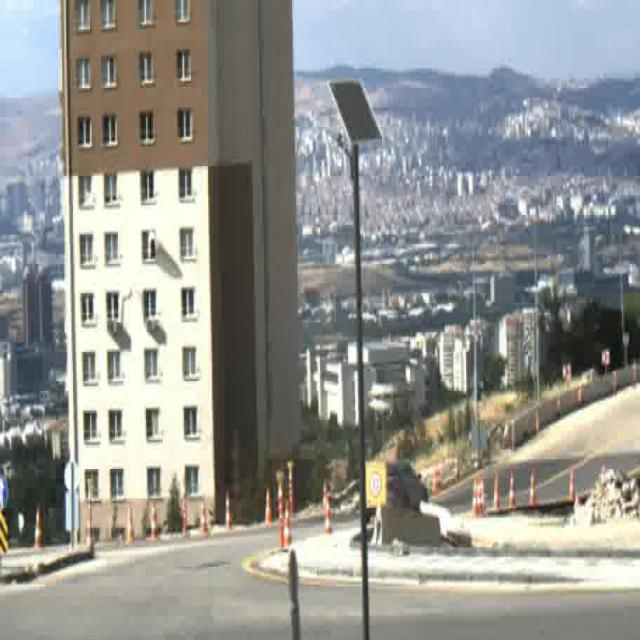Car: (374, 460, 432, 512)
